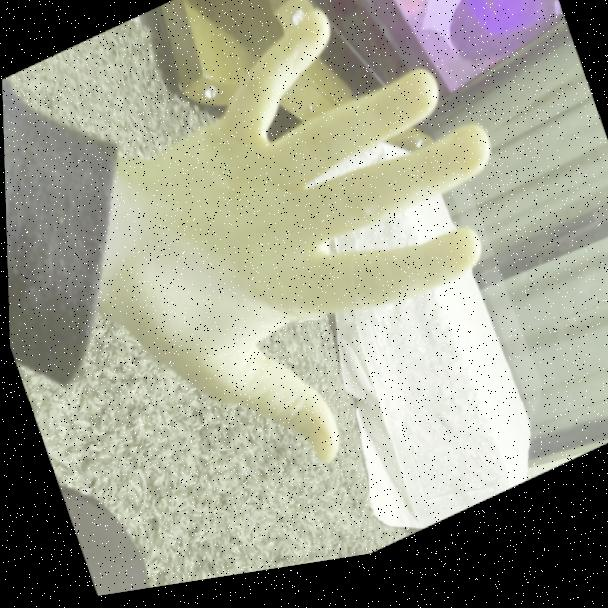five: (59, 0, 562, 531)
